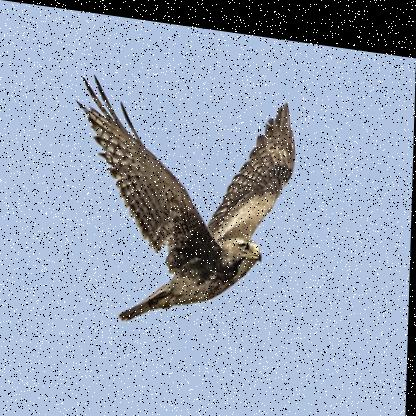Burung: (66, 65, 295, 343)
